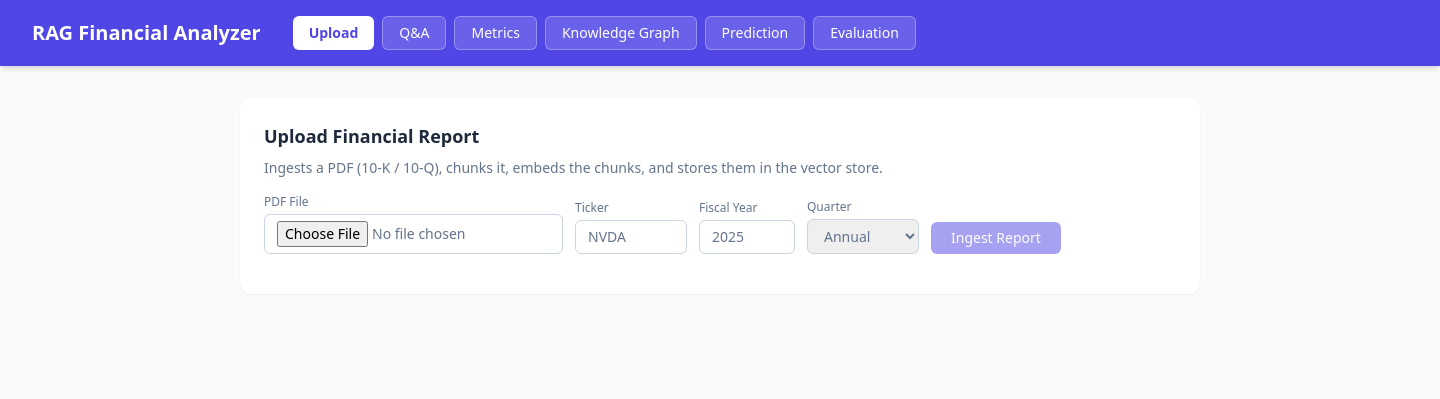
Test case: clicking Q&A tab switches to Q&A screen
This screenshot has width=1440, height=399.
Step 1. Click the button "Q&A" → click(414, 33), box [382,16,446,50]
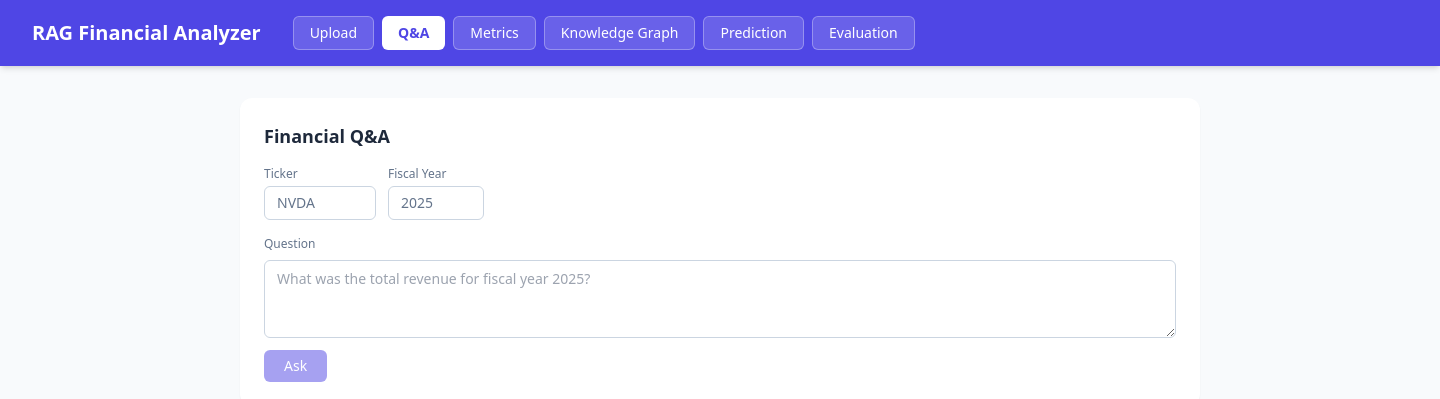
expect the text box with placeholder "What was the total revenue for fiscal year 2025?" is shown: met, box [264,260,1176,338]
